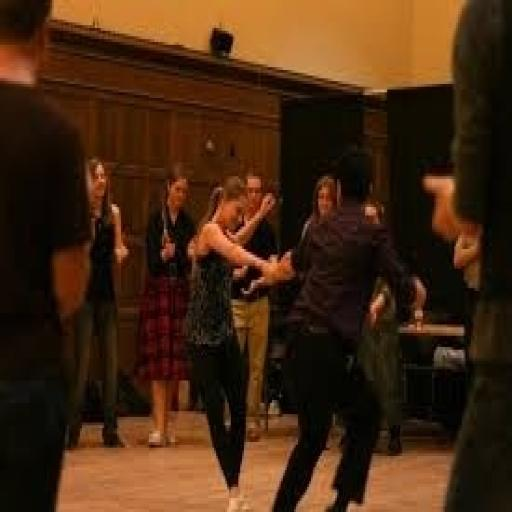dancing: (182, 174, 285, 509)
